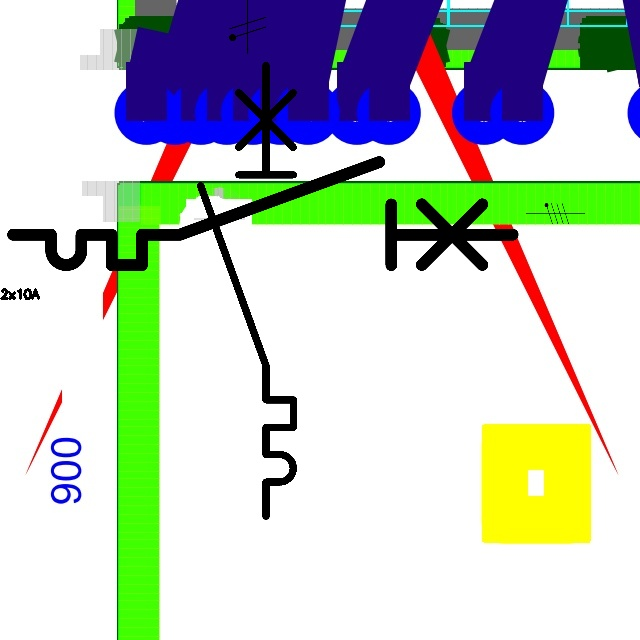interruptor_termomagnetico: (0, 149, 526, 278), (189, 53, 305, 527)
